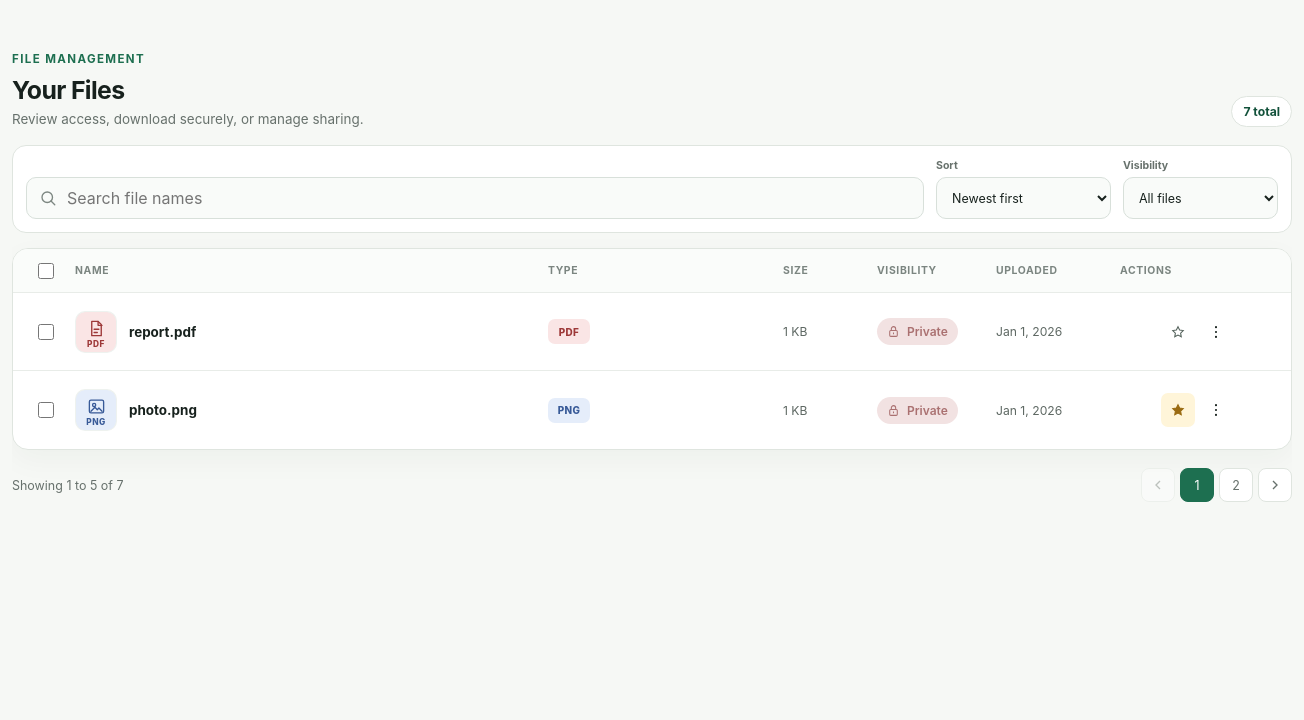
it: FileList professional table and pagination › bulk page selection and actions › limits Select All to visible files and clears selection when the page changes
This screenshot has width=1304, height=720.
What coordinates should you click on to do the following:
click the checkbox named "Select all files on this page"
I would click on:
 (46, 270)
Its box is [38,262,54,278].
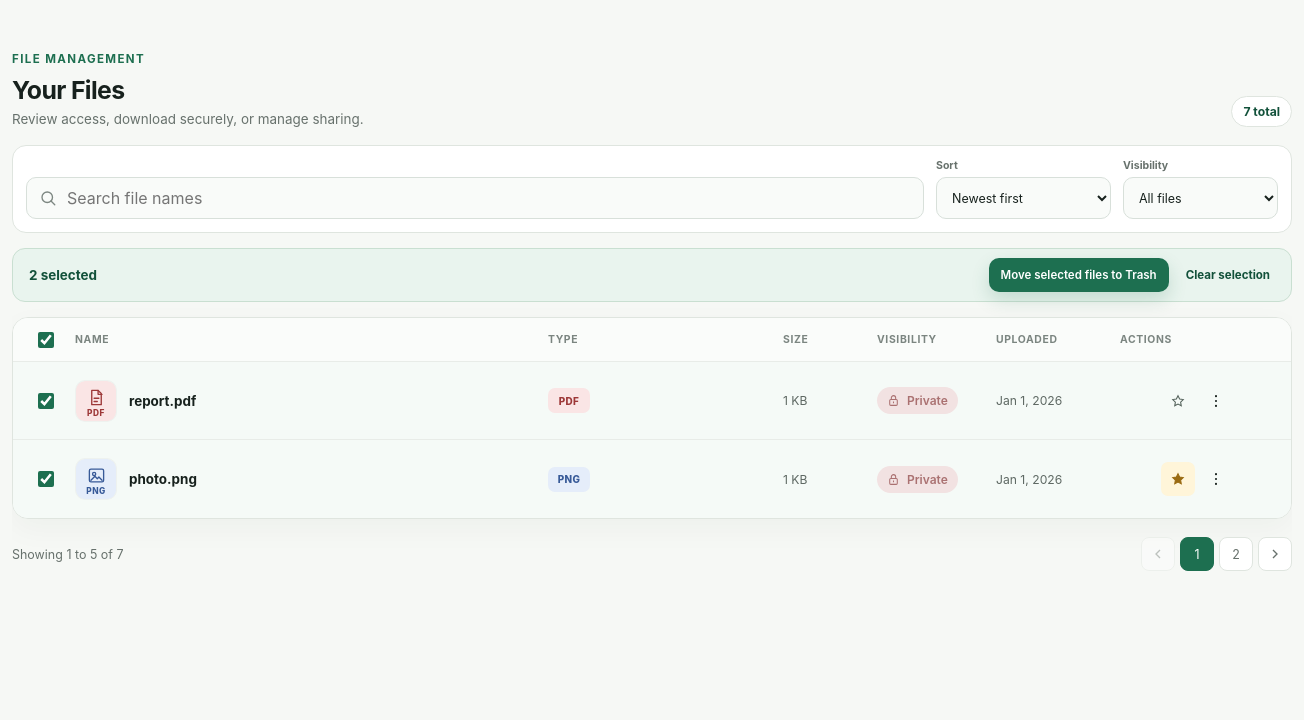
What coordinates should you click on to do the following:
click the button named "Next page"
I would click on:
 (1275, 554)
Its box is [1258,537,1292,571].
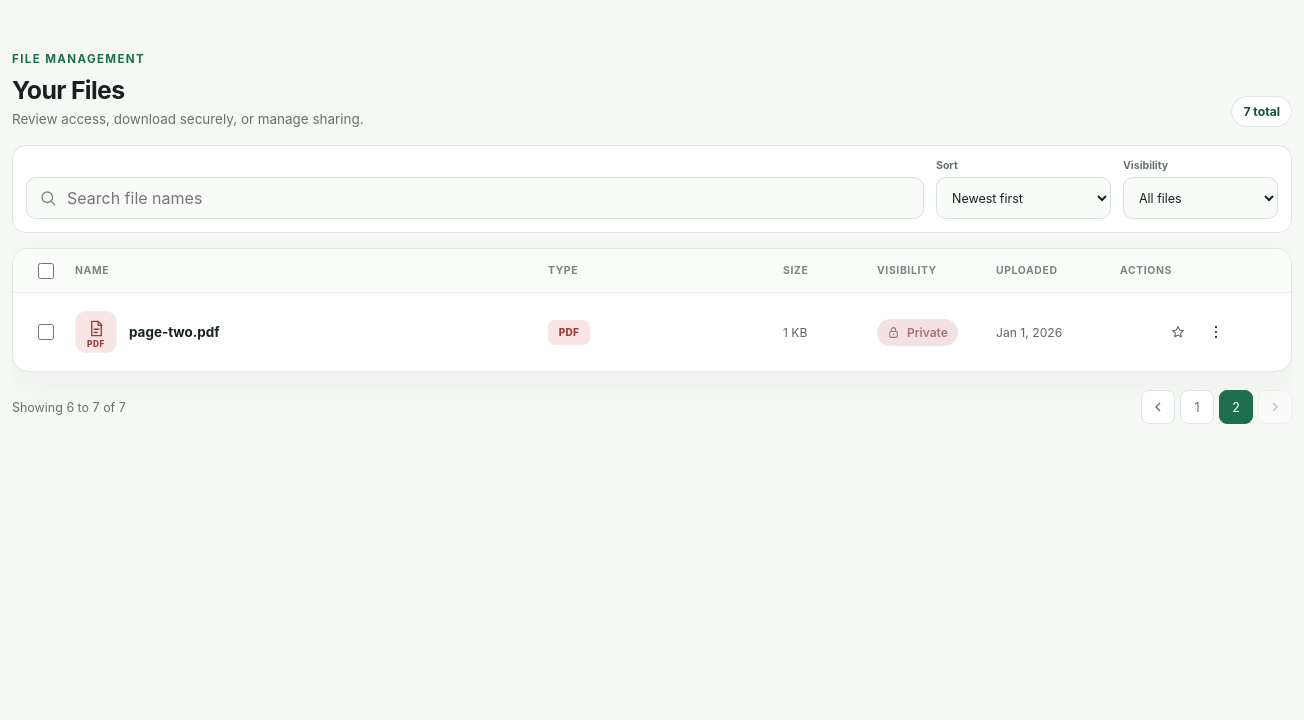
expect the element with class "bulk-action-toolbar" is gone: met
